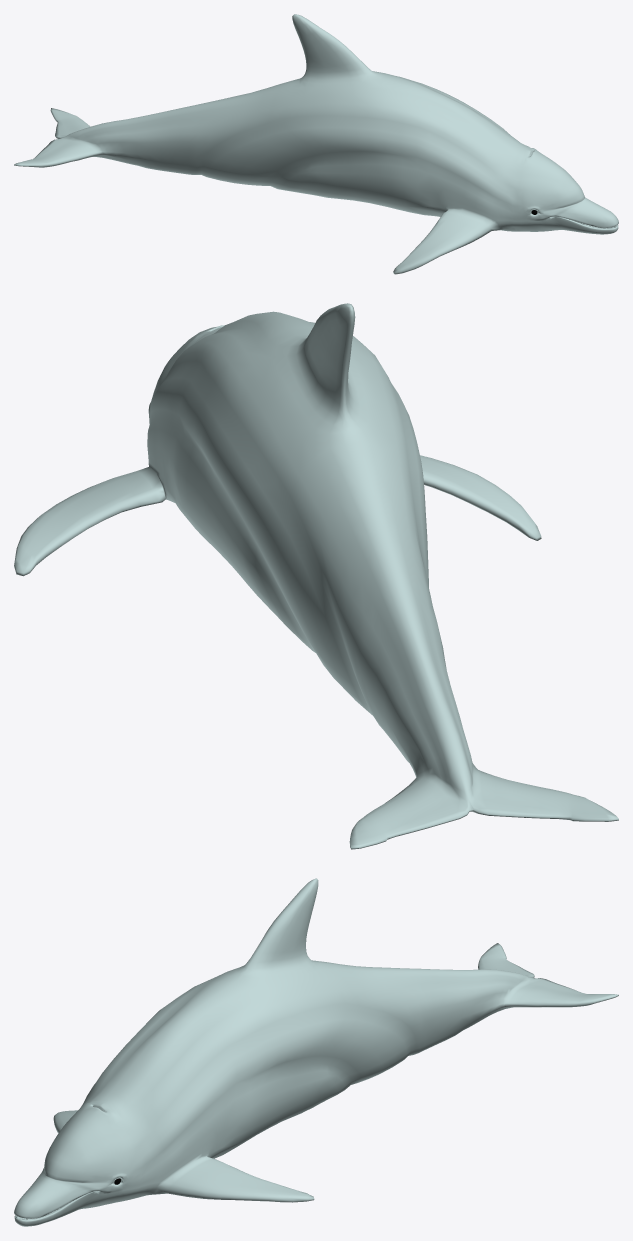
File: dolphin_000020.obj
The picture shows the model from 3 angles, top to bottom: view 1: azimuth 30°, elevation 25°; view 2: azimuth 150°, elevation 25°; view 3: azimuth 270°, elevation 25°; orthographic projection. The views are drawn at different scales.
Parts seen in each view (by area): view 1: Dolphin; view 2: Dolphin; view 3: Dolphin.
Part boxes in pixels (bbox=[...]): Dolphin: bbox=[14, 14, 618, 274]; Dolphin: bbox=[14, 303, 618, 849]; Dolphin: bbox=[14, 878, 618, 1226].
Size of the model in its own units: 5.52 by 2.4 by 5.6.
